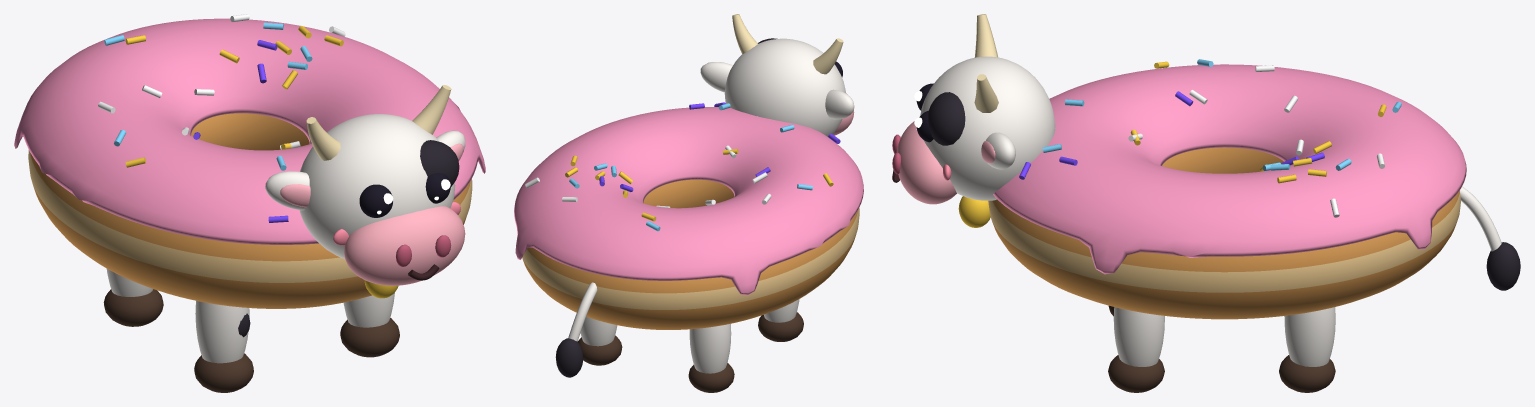
Rendered from pilot_ku_smultring.glb.
3 views of the same model, side by side, from view 1: azimuth 30°, elevation 25°; view 2: azimuth 150°, elevation 25°; view 3: azimuth 270°, elevation 25° (orthographic). The views are drawn at different scales.
Visible parts, largest first — view 1: kropp, hode, bein_vf, bein_hf, bein_vb; view 2: kropp, hode, bein_vb, bein_hb, hale, bein_vf; view 3: kropp, hode, bein_hb, bein_hf, hale.
Boxes of the visible parts, bbox=[...] form: kropp: bbox=[14, 14, 485, 308]; hode: bbox=[265, 85, 465, 298]; bein_vf: bbox=[194, 300, 253, 392]; bein_hf: bbox=[340, 292, 399, 357]; bein_vb: bbox=[103, 269, 163, 326]; kropp: bbox=[514, 102, 863, 329]; hode: bbox=[700, 14, 854, 137]; bein_vb: bbox=[688, 323, 734, 392]; bein_hb: bbox=[577, 316, 622, 365]; hale: bbox=[555, 282, 597, 377]; bein_vf: bbox=[758, 299, 803, 341]; kropp: bbox=[988, 59, 1466, 319]; hode: bbox=[892, 14, 1055, 227]; bein_hb: bbox=[1279, 307, 1335, 392]; bein_hf: bbox=[1108, 307, 1164, 392]; hale: bbox=[1460, 186, 1520, 290].
Size of the model in its own units: 1.46 by 1.21 by 2.21.
